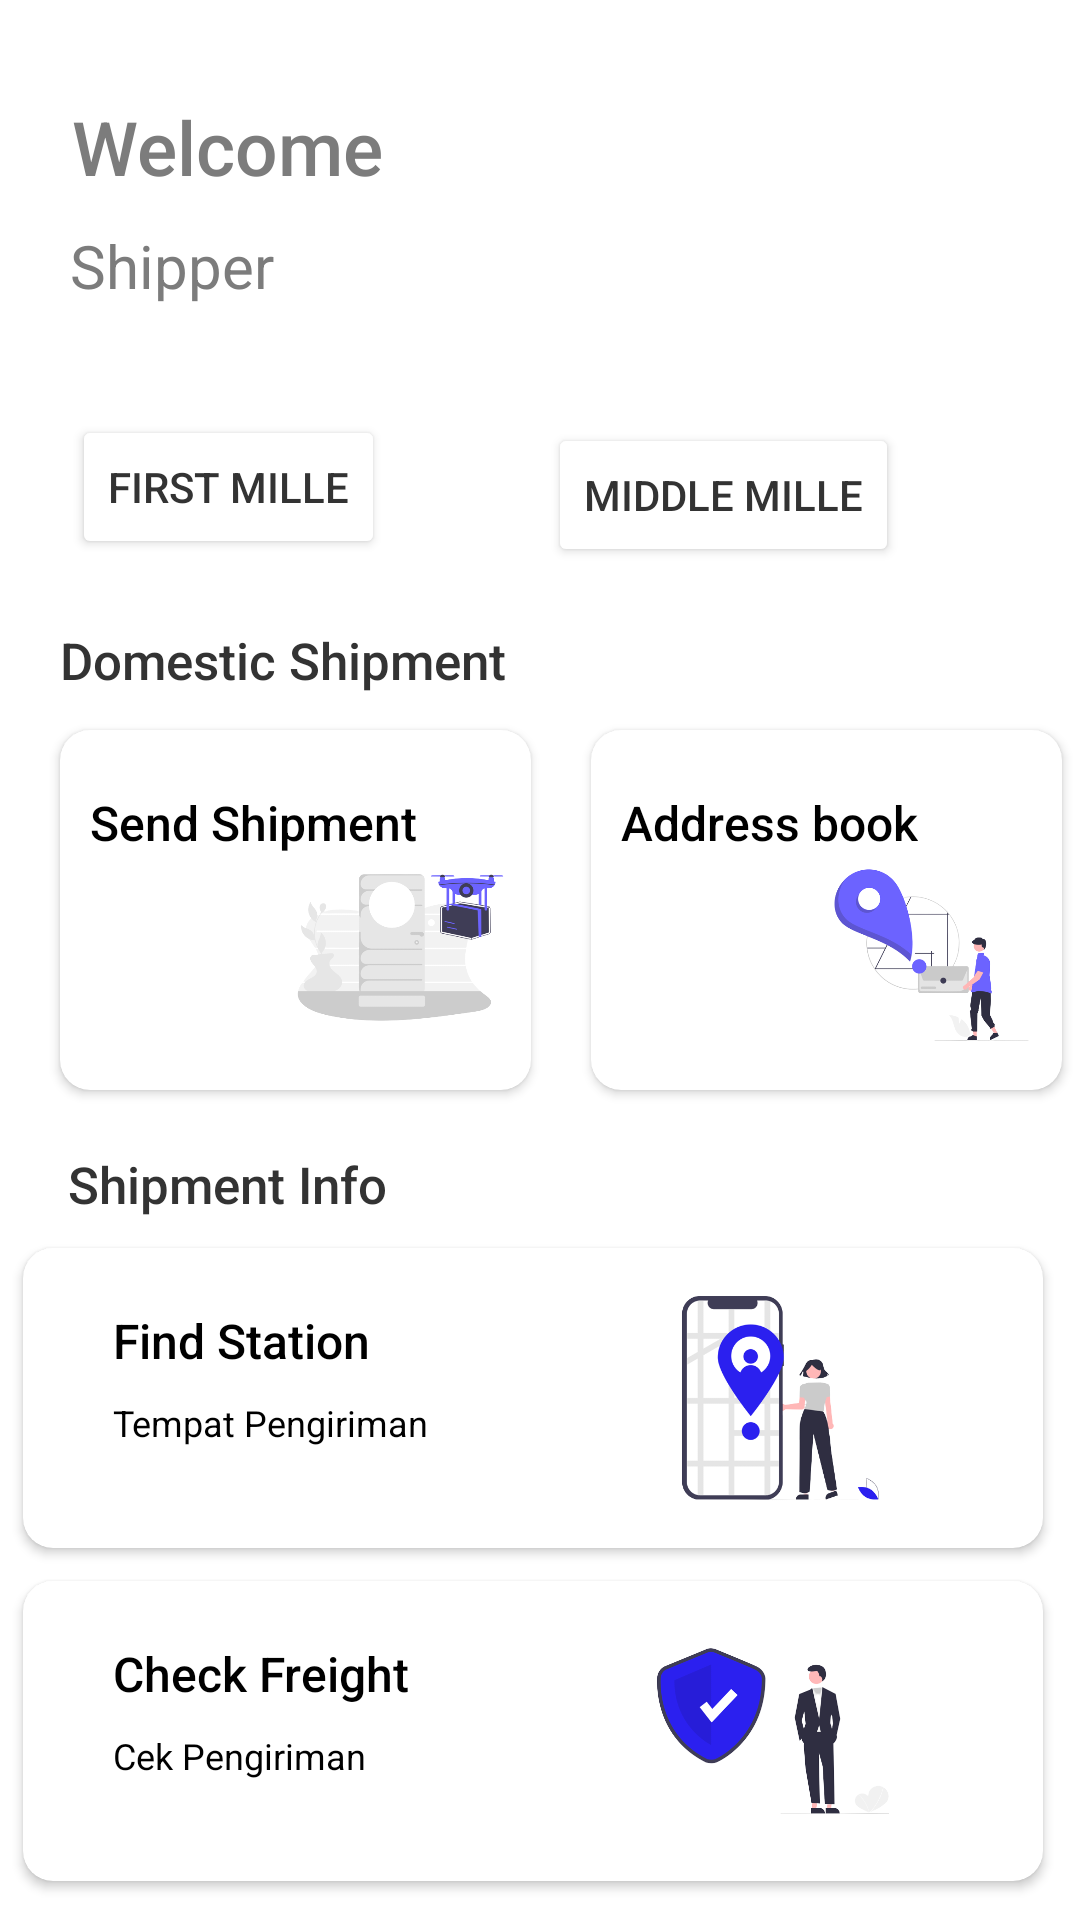

Icon bounding boxes for this 1080×1920 phone screenshot, format (x1, y1, x2, y2):
check: (657, 1648, 889, 1814)
delivery: (298, 874, 503, 1021)
location: (682, 1296, 879, 1500)
